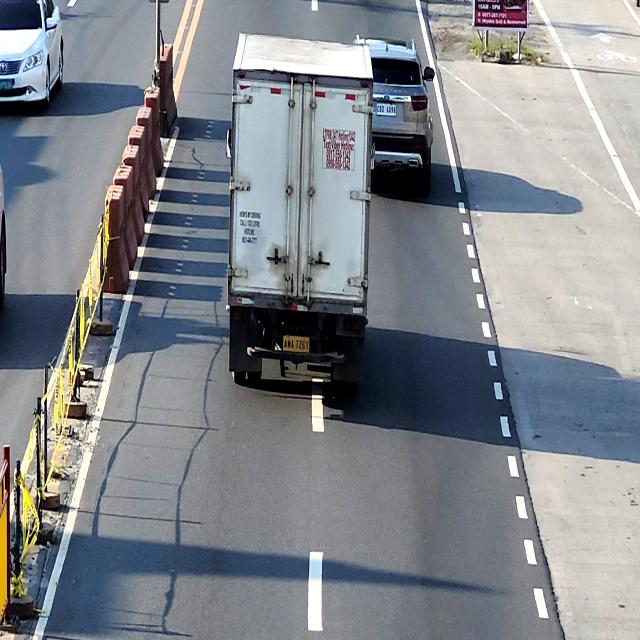Car: (351, 35, 436, 198), (0, 0, 63, 112)
License-Plate: (283, 336, 310, 352), (376, 103, 396, 116), (0, 79, 13, 90)
Truck: (226, 31, 373, 394)
